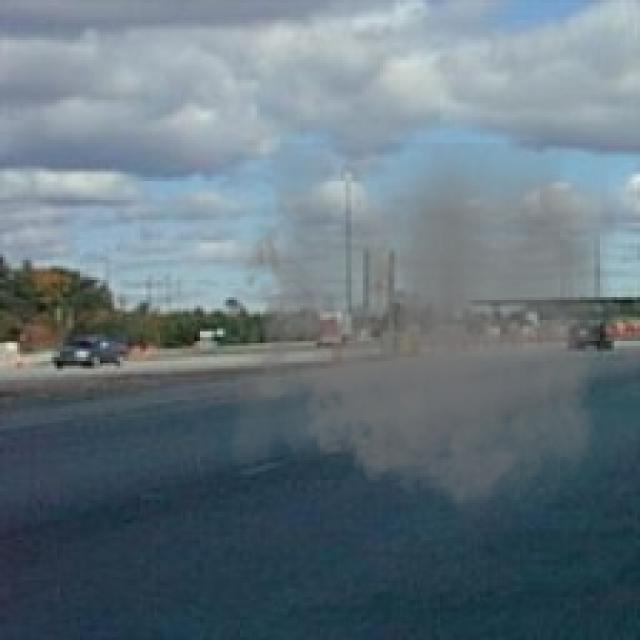smoke: (232, 143, 617, 528)
